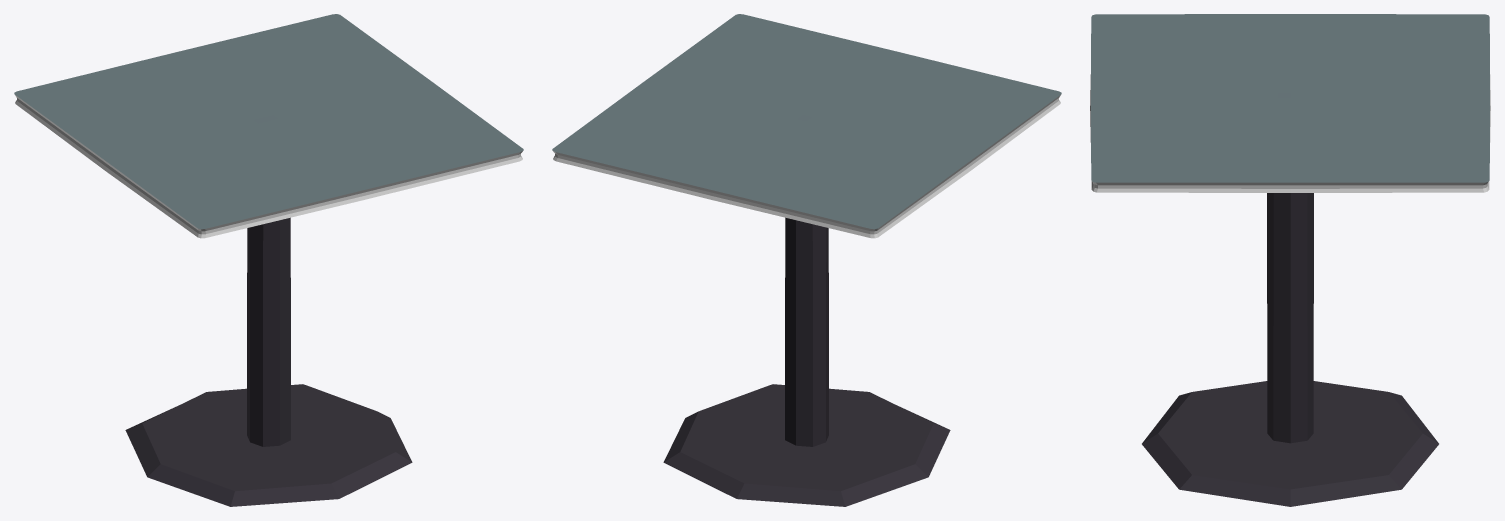
Rendered from Table Asset.fbx.
3 views of the same model, side by side, from view 1: azimuth 30°, elevation 25°; view 2: azimuth 150°, elevation 25°; view 3: azimuth 270°, elevation 25° (orthographic). The views are drawn at different scales.
Parts seen in each view (by area): view 1: Table; view 2: Table; view 3: Table.
Boxes of the visible parts, x1,y1,x2,y2 form: Table: (14, 14, 523, 506); Table: (552, 14, 1061, 506); Table: (1090, 14, 1490, 506).
Size of the model in its own units: 119 by 113 by 119.
